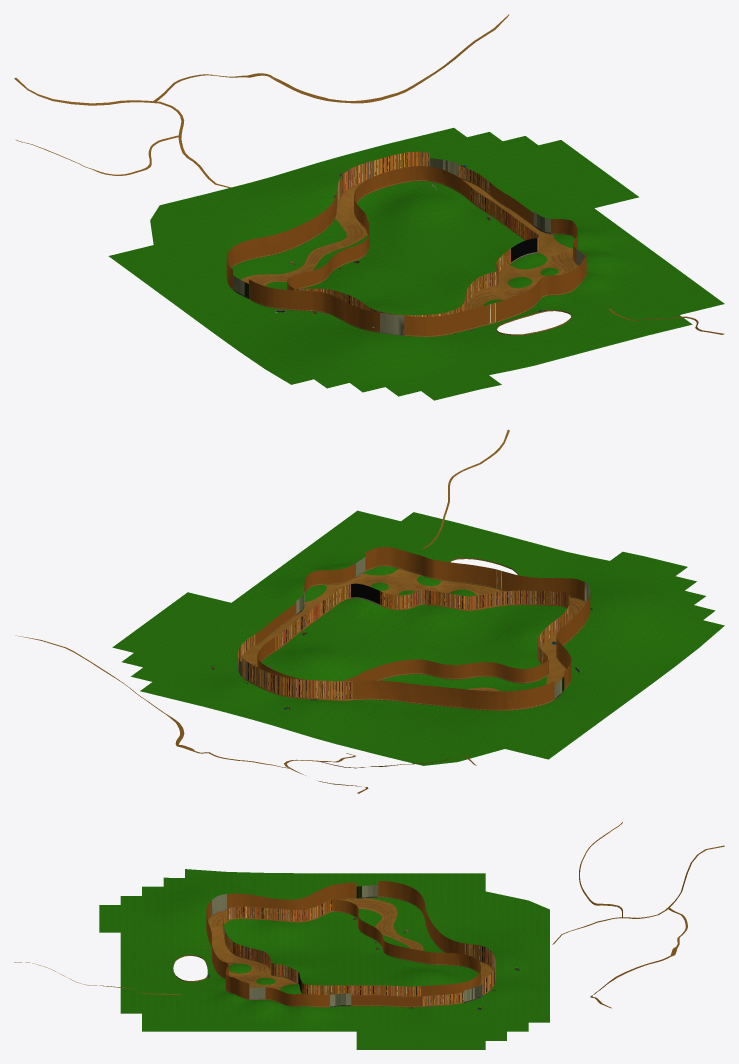
File: MooMooMeadows_road.glb
The picture shows the model from 3 angles, top to bottom: view 1: azimuth 30°, elevation 25°; view 2: azimuth 150°, elevation 25°; view 3: azimuth 270°, elevation 25°; orthographic projection. The views are drawn at different scales.
Visible parts, largest first — view 1: grass_grass, polygon99b, polygon6, polygon101b, polygon95, polygon18; view 2: grass_grass, polygon99b, polygon6, polygon101b, polygon95; view 3: grass_grass, polygon99b, polygon6, polygon18, polygon95, polygon101b.
Part boxes in pixels (box(x1,y1,x2,y2)): grass_grass: box(108, 128, 724, 400); polygon99b: box(226, 151, 586, 337); polygon6: box(14, 14, 724, 334); polygon101b: box(380, 238, 585, 335); polygon95: box(246, 224, 577, 309); polygon18: box(233, 158, 550, 334); grass_grass: box(112, 510, 724, 765); polygon99b: box(237, 547, 590, 710); polygon6: box(15, 429, 585, 793); polygon101b: box(351, 557, 590, 605); polygon95: box(251, 575, 585, 690); grass_grass: box(99, 869, 549, 1049); polygon99b: box(173, 881, 495, 1007); polygon6: box(14, 822, 724, 1008); polygon18: box(330, 885, 495, 1007); polygon95: box(212, 900, 420, 986); polygon101b: box(212, 894, 301, 1000).
Size of the model in its own units: 862 by 128 by 1325.
Materials: 8 (8 with a texture image).
